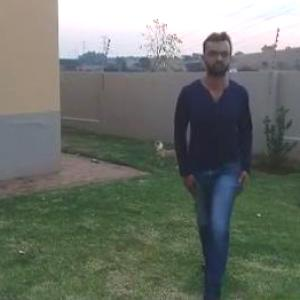follow: (168, 30, 250, 299)
